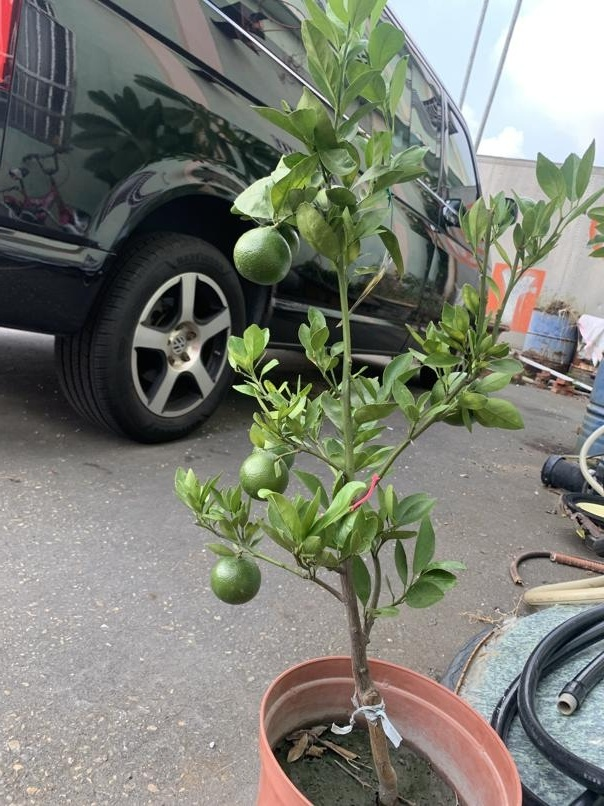Tangerine: (235, 224, 293, 285), (208, 548, 264, 606), (241, 452, 288, 501)
